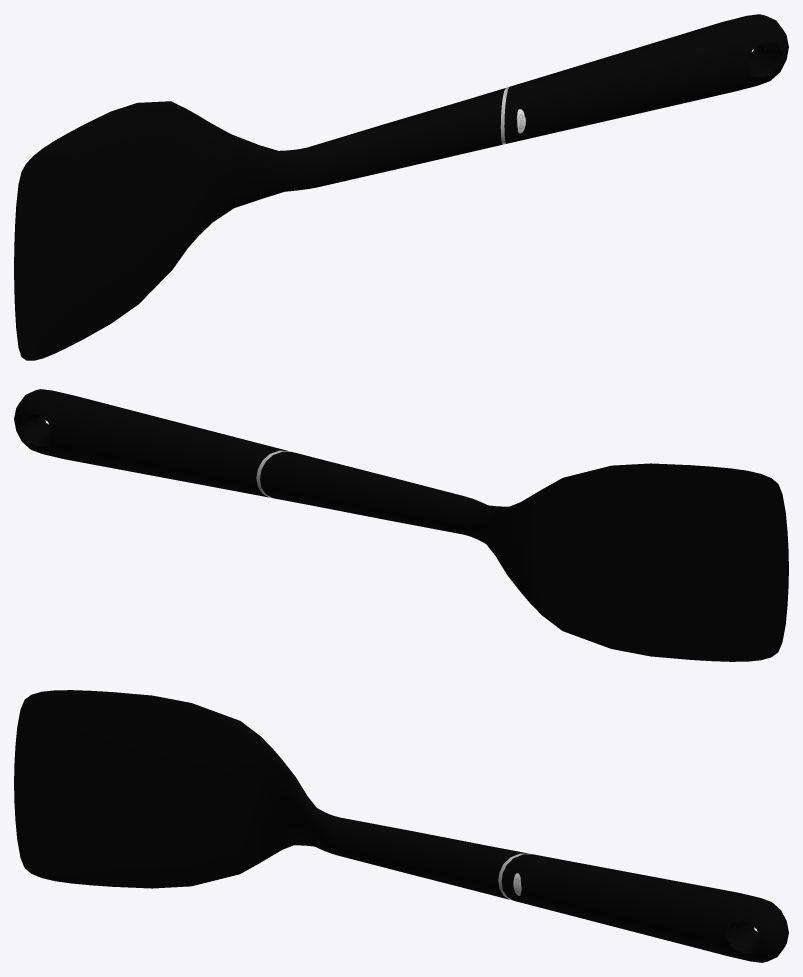
The model's file is spatula_oxo_nylon_square_issue7322_low.obj.
3 renders of one model, top to bottom at view 1: azimuth 30°, elevation 25°; view 2: azimuth 150°, elevation 25°; view 3: azimuth 330°, elevation 25°, orthographic. The views are drawn at different scales.
Visible parts, largest first — view 1: spatula_oxo_nylon_square_issue7322_low; view 2: spatula_oxo_nylon_square_issue7322_low; view 3: spatula_oxo_nylon_square_issue7322_low.
Boxes of the visible parts, x1,y1,x2,y2 form: spatula_oxo_nylon_square_issue7322_low: (14,14,788,360); spatula_oxo_nylon_square_issue7322_low: (14,389,788,661); spatula_oxo_nylon_square_issue7322_low: (14,690,788,962).
Bounding box in the file's own units: 0.3493 × 0.088 × 0.0396.
Materials: 1 (1 with a texture image).
